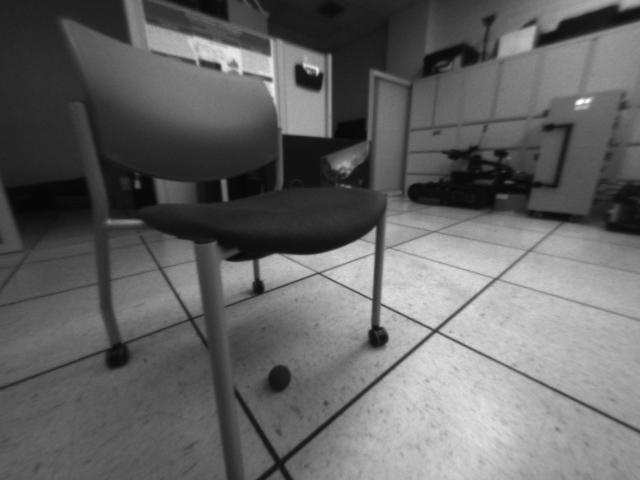dogtoy: (261, 357, 299, 394)
